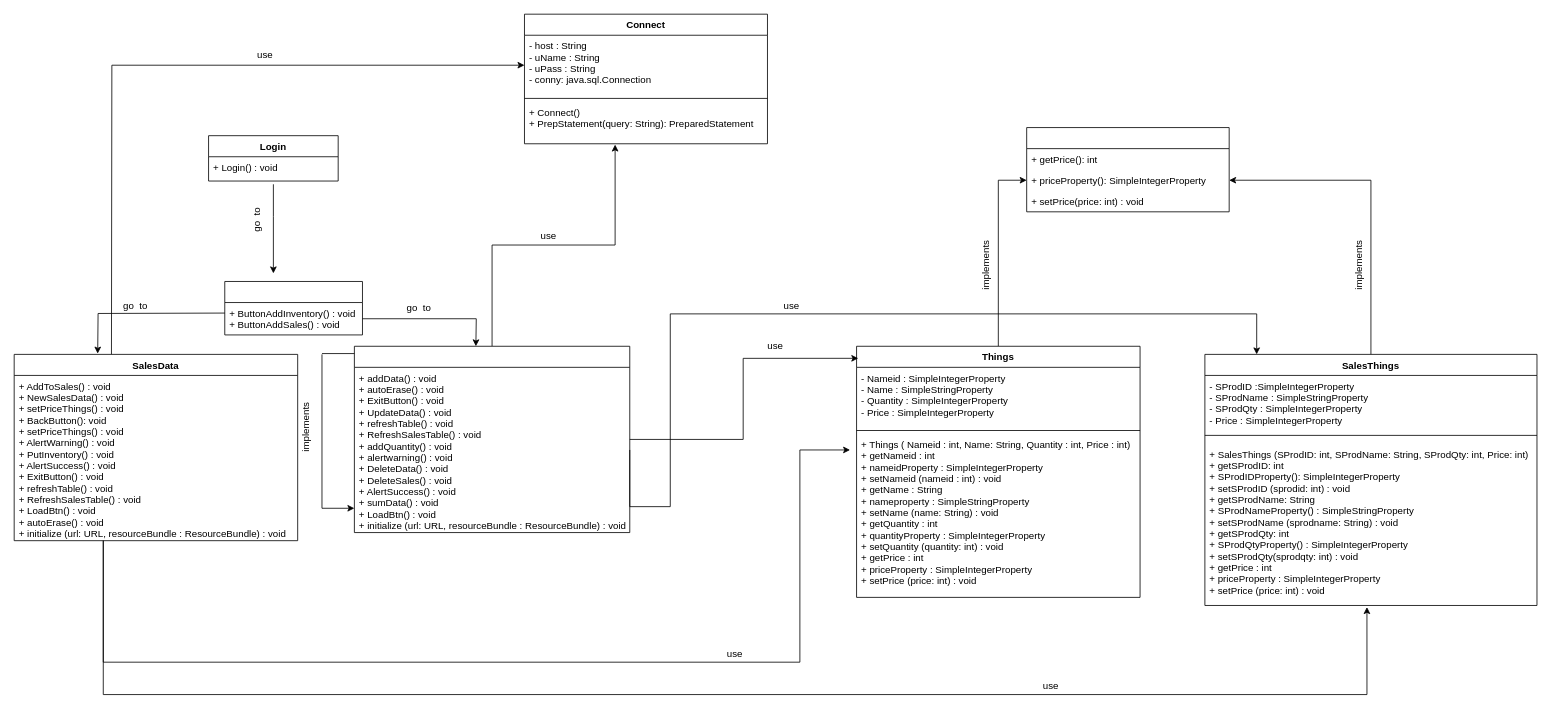
The diagram is 1551 pixels wide and 715 high, and some of its shapes have lost their labels. Each missing label, with the box of its shape:
interfcthings: (1026, 127, 1229, 212)
InventoryData: (354, 345, 630, 533)
Menu: (224, 281, 362, 335)
